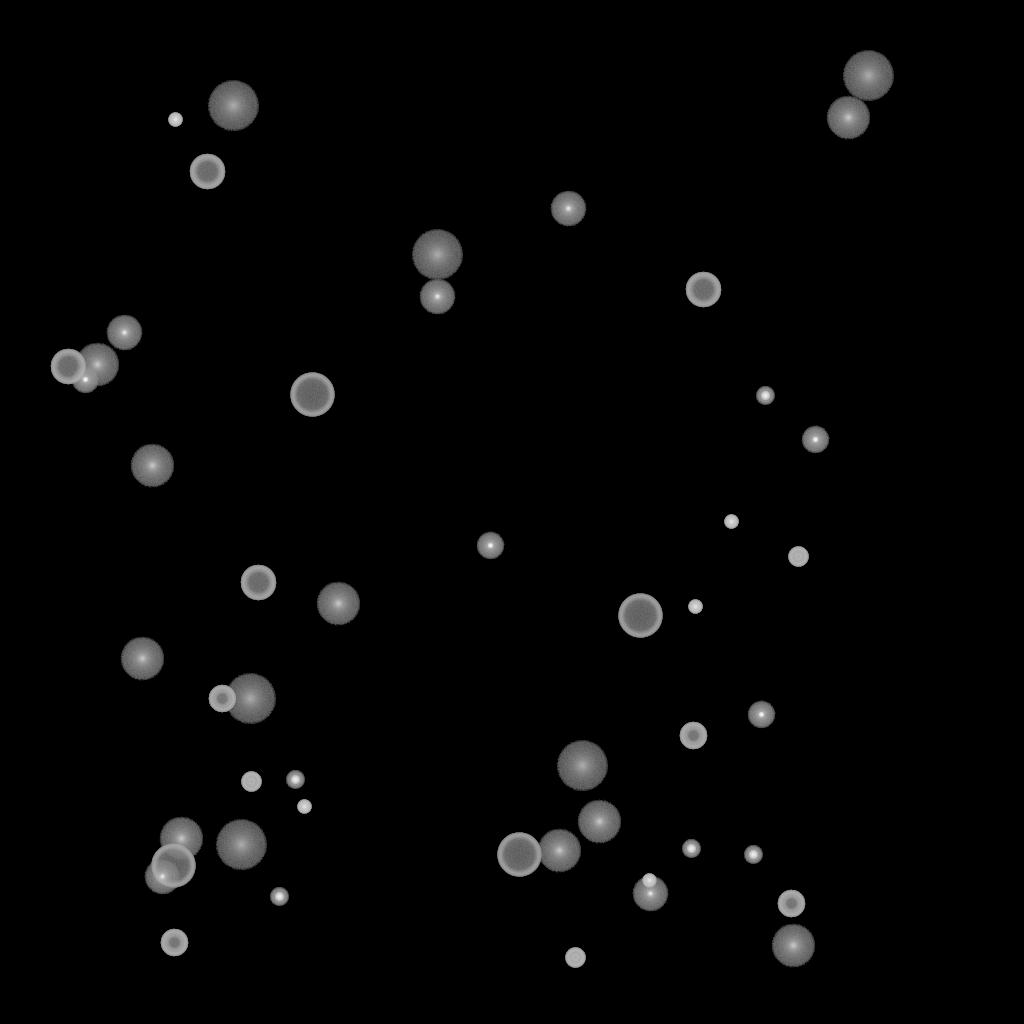depth:-10: (801, 426, 829, 454), (747, 701, 775, 729), (476, 532, 504, 560), (71, 366, 99, 394)
depth:-20: (270, 888, 288, 906), (744, 846, 762, 864), (756, 387, 774, 405), (286, 771, 304, 789), (682, 840, 700, 858)
depth:-30: (688, 600, 702, 614), (642, 874, 656, 888), (724, 515, 738, 529), (297, 800, 311, 814), (168, 113, 182, 127)
depth:-40: (565, 948, 585, 968), (788, 547, 808, 567), (241, 772, 261, 792)
depth:-50: (160, 929, 188, 957), (679, 722, 707, 750), (777, 890, 805, 918), (208, 685, 236, 713)
depth:-60: (240, 565, 276, 601), (189, 154, 225, 190), (50, 349, 86, 385), (685, 272, 721, 308)
depth:-70: (497, 833, 541, 877), (151, 844, 195, 888), (618, 594, 662, 638), (290, 373, 334, 417)
depth:0: (106, 315, 142, 351), (419, 279, 455, 315), (144, 859, 180, 895), (550, 191, 586, 227), (632, 876, 668, 912)
depth:10: (771, 924, 815, 968), (130, 444, 174, 488), (537, 829, 581, 873), (577, 800, 621, 844), (316, 582, 360, 626), (120, 637, 164, 681), (826, 96, 870, 140), (75, 343, 119, 387), (159, 817, 203, 861)
depth:20: (207, 81, 259, 131), (215, 820, 267, 870), (224, 674, 276, 724), (411, 230, 463, 280), (556, 741, 608, 791), (842, 51, 894, 101)
